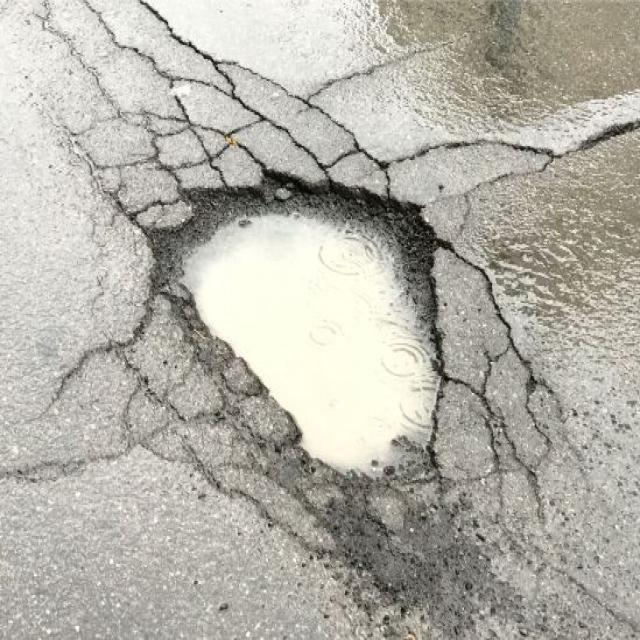pothole: (123, 162, 480, 492)
